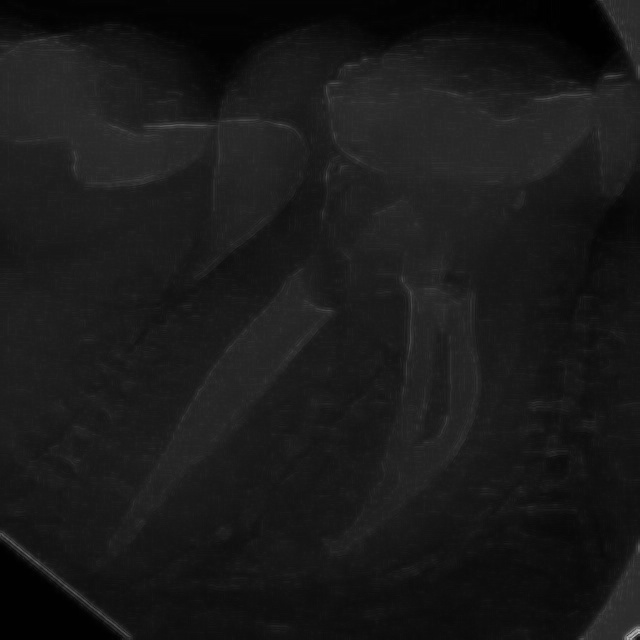Class 0- No endodontic treatment: (68, 27, 613, 619)
